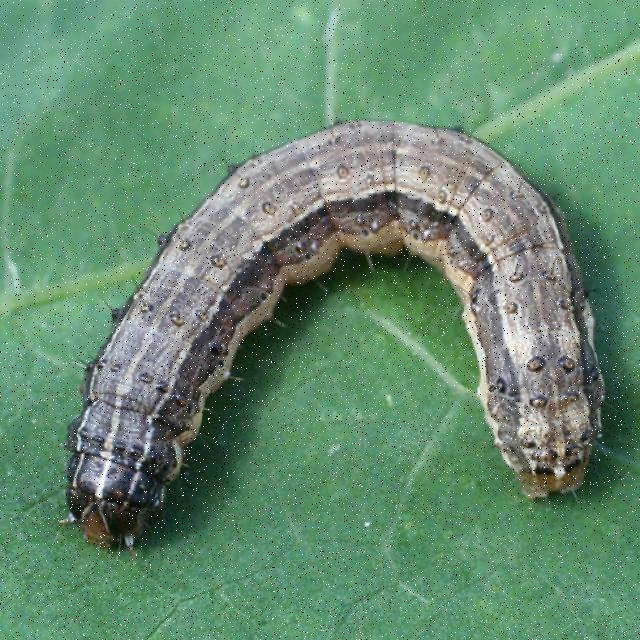army worm: (29, 68, 618, 562)
